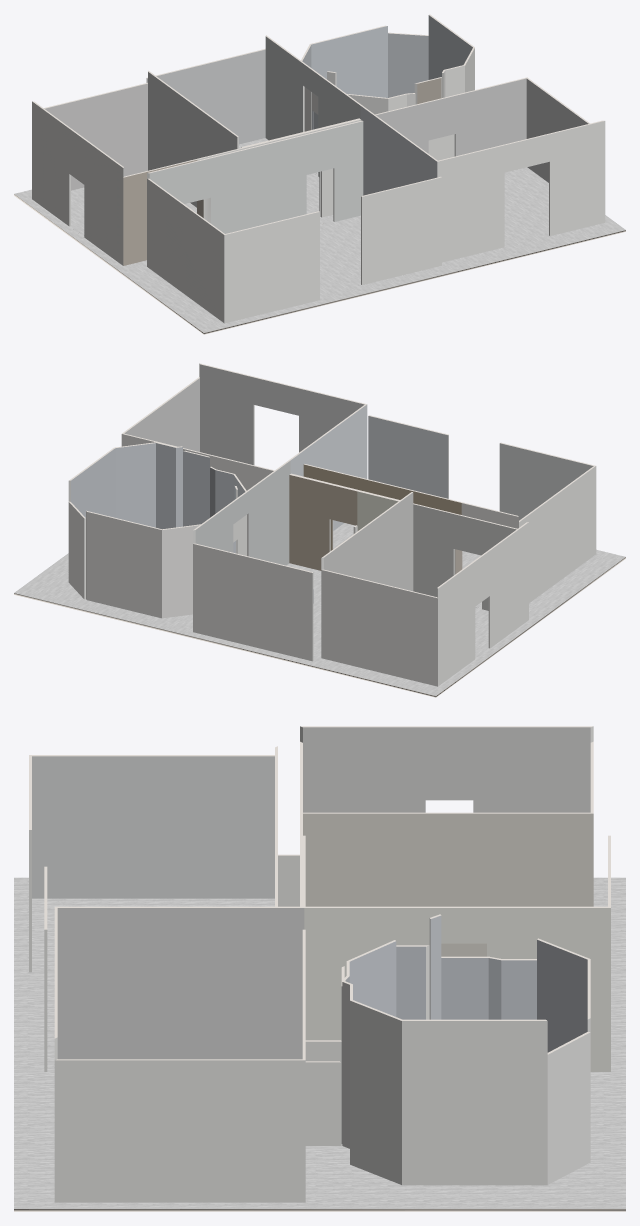
File: Museum.glb
3 renders of one model, top to bottom at view 1: azimuth 30°, elevation 25°; view 2: azimuth 150°, elevation 25°; view 3: azimuth 270°, elevation 25°, orthographic. The views are drawn at different scales.
Visible parts, largest first — view 1: floor_0, wall_14, wall_20, wall_15, wall_18, wall_32, wall_19, wall_13, wall_17, wall_23, wall_31, wall_24 (+8 smaller); view 2: floor_0, wall_23, wall_31, wall_15, wall_32, wall_14, wall_19, wall_1, wall_17, wall_22, wall_13, wall_24 (+11 smaller); view 3: wall_15, wall_0, floor_0, wall_17, wall_24, wall_32, wall_3, wall_4, wall_2, wall_10, wall_6, wall_27 (+10 smaller).
Boxes of the visible parts, bbox=[...] form: floor_0: bbox=[14, 138, 625, 334]; wall_14: bbox=[437, 120, 605, 262]; wall_20: bbox=[147, 120, 363, 233]; wall_15: bbox=[265, 35, 437, 195]; wall_18: bbox=[224, 211, 319, 323]; wall_32: bbox=[32, 101, 123, 265]; wall_19: bbox=[241, 77, 526, 216]; wall_13: bbox=[361, 176, 441, 284]; wall_17: bbox=[147, 178, 224, 322]; wall_23: bbox=[146, 48, 265, 144]; wall_31: bbox=[44, 82, 147, 190]; wall_24: bbox=[148, 70, 238, 207]; floor_0: bbox=[14, 523, 625, 697]; wall_23: bbox=[193, 543, 313, 661]; wall_31: bbox=[321, 569, 437, 686]; wall_15: bbox=[193, 404, 367, 565]; wall_32: bbox=[437, 522, 528, 686]; wall_14: bbox=[199, 363, 366, 465]; wall_19: bbox=[121, 433, 398, 570]; wall_1: bbox=[86, 510, 161, 618]; wall_17: bbox=[519, 466, 596, 602]; wall_22: bbox=[290, 473, 517, 610]; wall_13: bbox=[368, 415, 448, 498]; wall_24: bbox=[321, 492, 413, 591]; wall_15: bbox=[55, 906, 610, 1071]; wall_0: bbox=[54, 1059, 305, 1202]; floor_0: bbox=[14, 877, 625, 1211]; wall_17: bbox=[30, 755, 274, 898]; wall_24: bbox=[303, 812, 593, 956]; wall_32: bbox=[300, 726, 593, 812]; wall_3: bbox=[402, 1019, 547, 1185]; wall_4: bbox=[350, 1000, 402, 1184]; wall_2: bbox=[547, 1032, 590, 1184]; wall_10: bbox=[537, 938, 589, 1052]; wall_6: bbox=[305, 1061, 341, 1145]; wall_27: bbox=[441, 956, 488, 1019].
Bounding box in the file's own units: 26.16 × 6.14 × 20.41.
147 materials, 1 textured.
